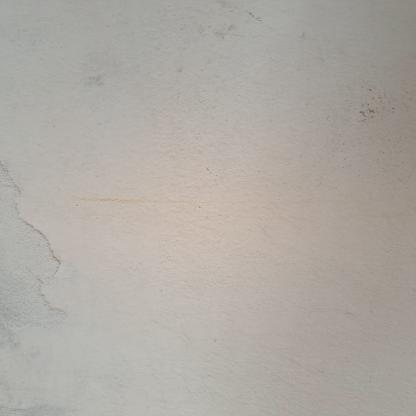spot: (68, 188, 209, 212), (338, 86, 402, 122), (83, 70, 121, 91)
